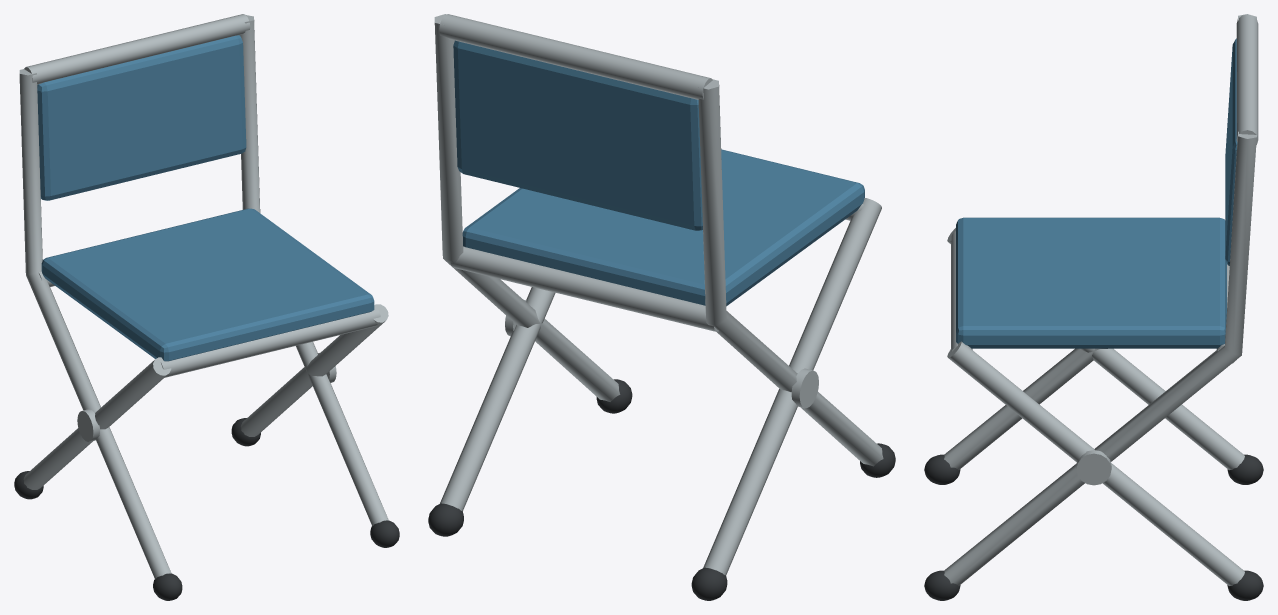
File: chair_folding.glb
3 views of the same model, side by side, from view 1: azimuth 30°, elevation 25°; view 2: azimuth 150°, elevation 25°; view 3: azimuth 270°, elevation 25° (orthographic). The views are drawn at different scales.
Parts seen in each view (by area): view 1: FoldingChair_Flat_Seat, FoldingChair_Back_Panel, FoldingChair_Front_Leg_And_Back_Upright, FoldingChair_Front_Leg_And_Back_Upright.001, FoldingChair_Back_Top_Rail, FoldingChair_Seat_Crossbar, FoldingChair_Crossing_Rear_Leg, FoldingChair_Crossing_Rear_Leg.001, FoldingChair_Rubber_Foot, FoldingChair_Rubber_Foot.002, FoldingChair_Hinge; view 2: FoldingChair_Back_Panel, FoldingChair_Flat_Seat, FoldingChair_Front_Leg_And_Back_Upright, FoldingChair_Crossing_Rear_Leg, FoldingChair_Front_Leg_And_Back_Upright.001, FoldingChair_Back_Top_Rail, FoldingChair_Seat_Crossbar.001, FoldingChair_Crossing_Rear_Leg.001, FoldingChair_Rubber_Foot.001, FoldingChair_Rubber_Foot.003, FoldingChair_Hinge, FoldingChair_Rubber_Foot.002 (+1 smaller); view 3: FoldingChair_Flat_Seat, FoldingChair_Front_Leg_And_Back_Upright.001, FoldingChair_Crossing_Rear_Leg.001, FoldingChair_Crossing_Rear_Leg, FoldingChair_Front_Leg_And_Back_Upright, FoldingChair_Back_Top_Rail, FoldingChair_Back_Panel, FoldingChair_Hinge.001, FoldingChair_Rubber_Foot, FoldingChair_Rubber_Foot.002, FoldingChair_Rubber_Foot.003, FoldingChair_Rubber_Foot.001 (+1 smaller).
Part boxes in pixels (bbox=[...]): FoldingChair_Flat_Seat: bbox=[41, 208, 374, 361]; FoldingChair_Back_Panel: bbox=[37, 35, 246, 200]; FoldingChair_Front_Leg_And_Back_Upright: bbox=[19, 69, 171, 579]; FoldingChair_Front_Leg_And_Back_Upright.001: bbox=[240, 15, 388, 526]; FoldingChair_Back_Top_Rail: bbox=[24, 14, 250, 84]; FoldingChair_Seat_Crossbar: bbox=[160, 309, 380, 377]; FoldingChair_Crossing_Rear_Leg: bbox=[23, 357, 171, 489]; FoldingChair_Crossing_Rear_Leg.001: bbox=[241, 304, 388, 436]; FoldingChair_Rubber_Foot: bbox=[153, 573, 182, 600]; FoldingChair_Rubber_Foot.002: bbox=[370, 520, 399, 547]; FoldingChair_Hinge: bbox=[77, 409, 99, 441]; FoldingChair_Back_Panel: bbox=[453, 40, 702, 230]; FoldingChair_Flat_Seat: bbox=[462, 149, 864, 306]; FoldingChair_Front_Leg_And_Back_Upright: bbox=[698, 79, 883, 466]; FoldingChair_Crossing_Rear_Leg: bbox=[703, 198, 881, 575]; FoldingChair_Front_Leg_And_Back_Upright.001: bbox=[434, 14, 620, 401]; FoldingChair_Back_Top_Rail: bbox=[439, 14, 712, 99]; FoldingChair_Seat_Crossbar.001: bbox=[450, 246, 718, 331]; FoldingChair_Crossing_Rear_Leg.001: bbox=[440, 287, 555, 510]; FoldingChair_Rubber_Foot.001: bbox=[691, 567, 727, 600]; FoldingChair_Rubber_Foot.003: bbox=[428, 503, 463, 536]; FoldingChair_Hinge: bbox=[791, 368, 818, 408]; FoldingChair_Rubber_Foot.002: bbox=[596, 379, 632, 413]; FoldingChair_Flat_Seat: bbox=[956, 217, 1226, 348]; FoldingChair_Front_Leg_And_Back_Upright.001: bbox=[944, 131, 1256, 585]; FoldingChair_Crossing_Rear_Leg.001: bbox=[947, 341, 1244, 585]; FoldingChair_Crossing_Rear_Leg: bbox=[947, 228, 1244, 470]; FoldingChair_Front_Leg_And_Back_Upright: bbox=[944, 14, 1256, 469]; FoldingChair_Back_Top_Rail: bbox=[1236, 14, 1258, 144]; FoldingChair_Back_Panel: bbox=[1225, 38, 1237, 265]; FoldingChair_Hinge.001: bbox=[1076, 450, 1111, 485]; FoldingChair_Rubber_Foot: bbox=[924, 454, 960, 484]; FoldingChair_Rubber_Foot.002: bbox=[924, 570, 960, 600]; FoldingChair_Rubber_Foot.003: bbox=[1227, 570, 1263, 600]; FoldingChair_Rubber_Foot.001: bbox=[1227, 454, 1263, 484].
Bounding box in the file's own units: 0.506 × 0.854 × 0.56.
